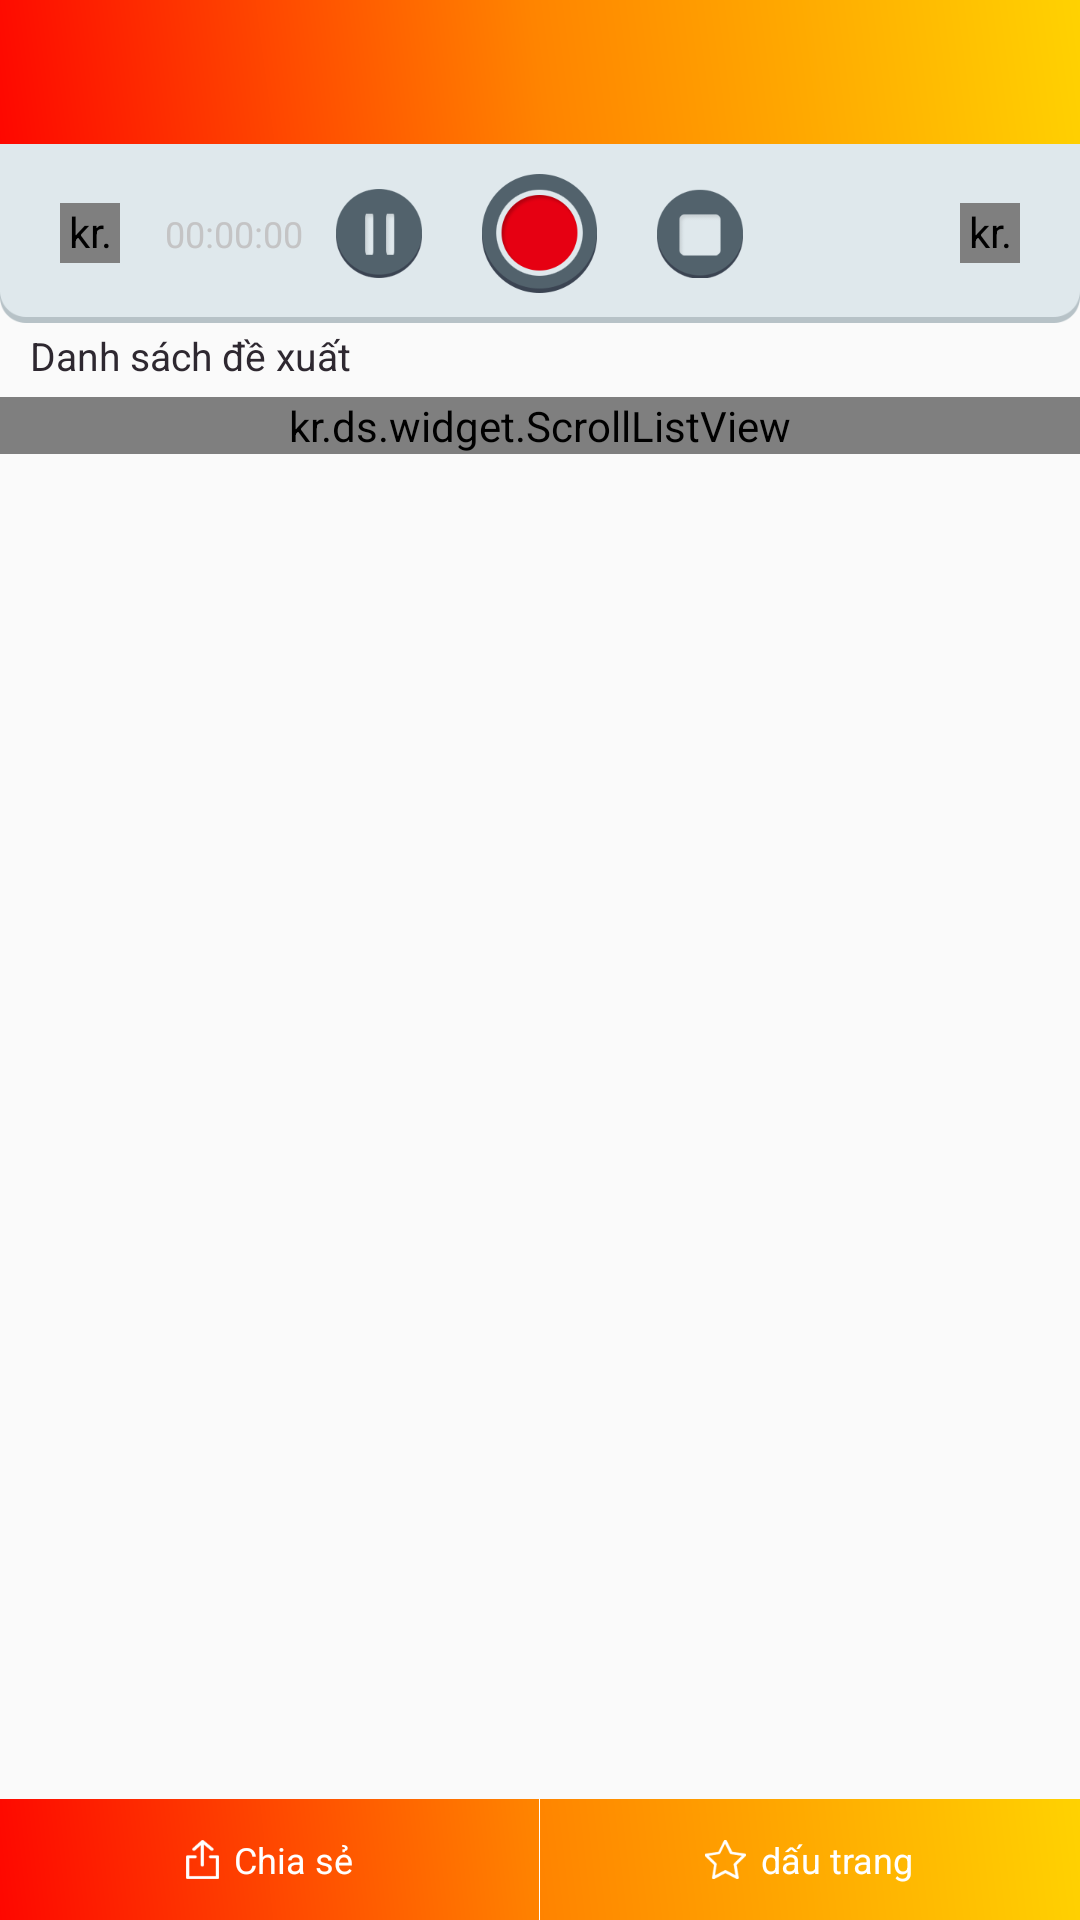

Locate icon controls on the screen. Image size 1080 x 1920, boxes as (x1, y1, x2, y2).
pause: (336, 189, 422, 278)
record: (482, 174, 597, 293)
share: (186, 1840, 219, 1879)
stop: (657, 190, 743, 278)
